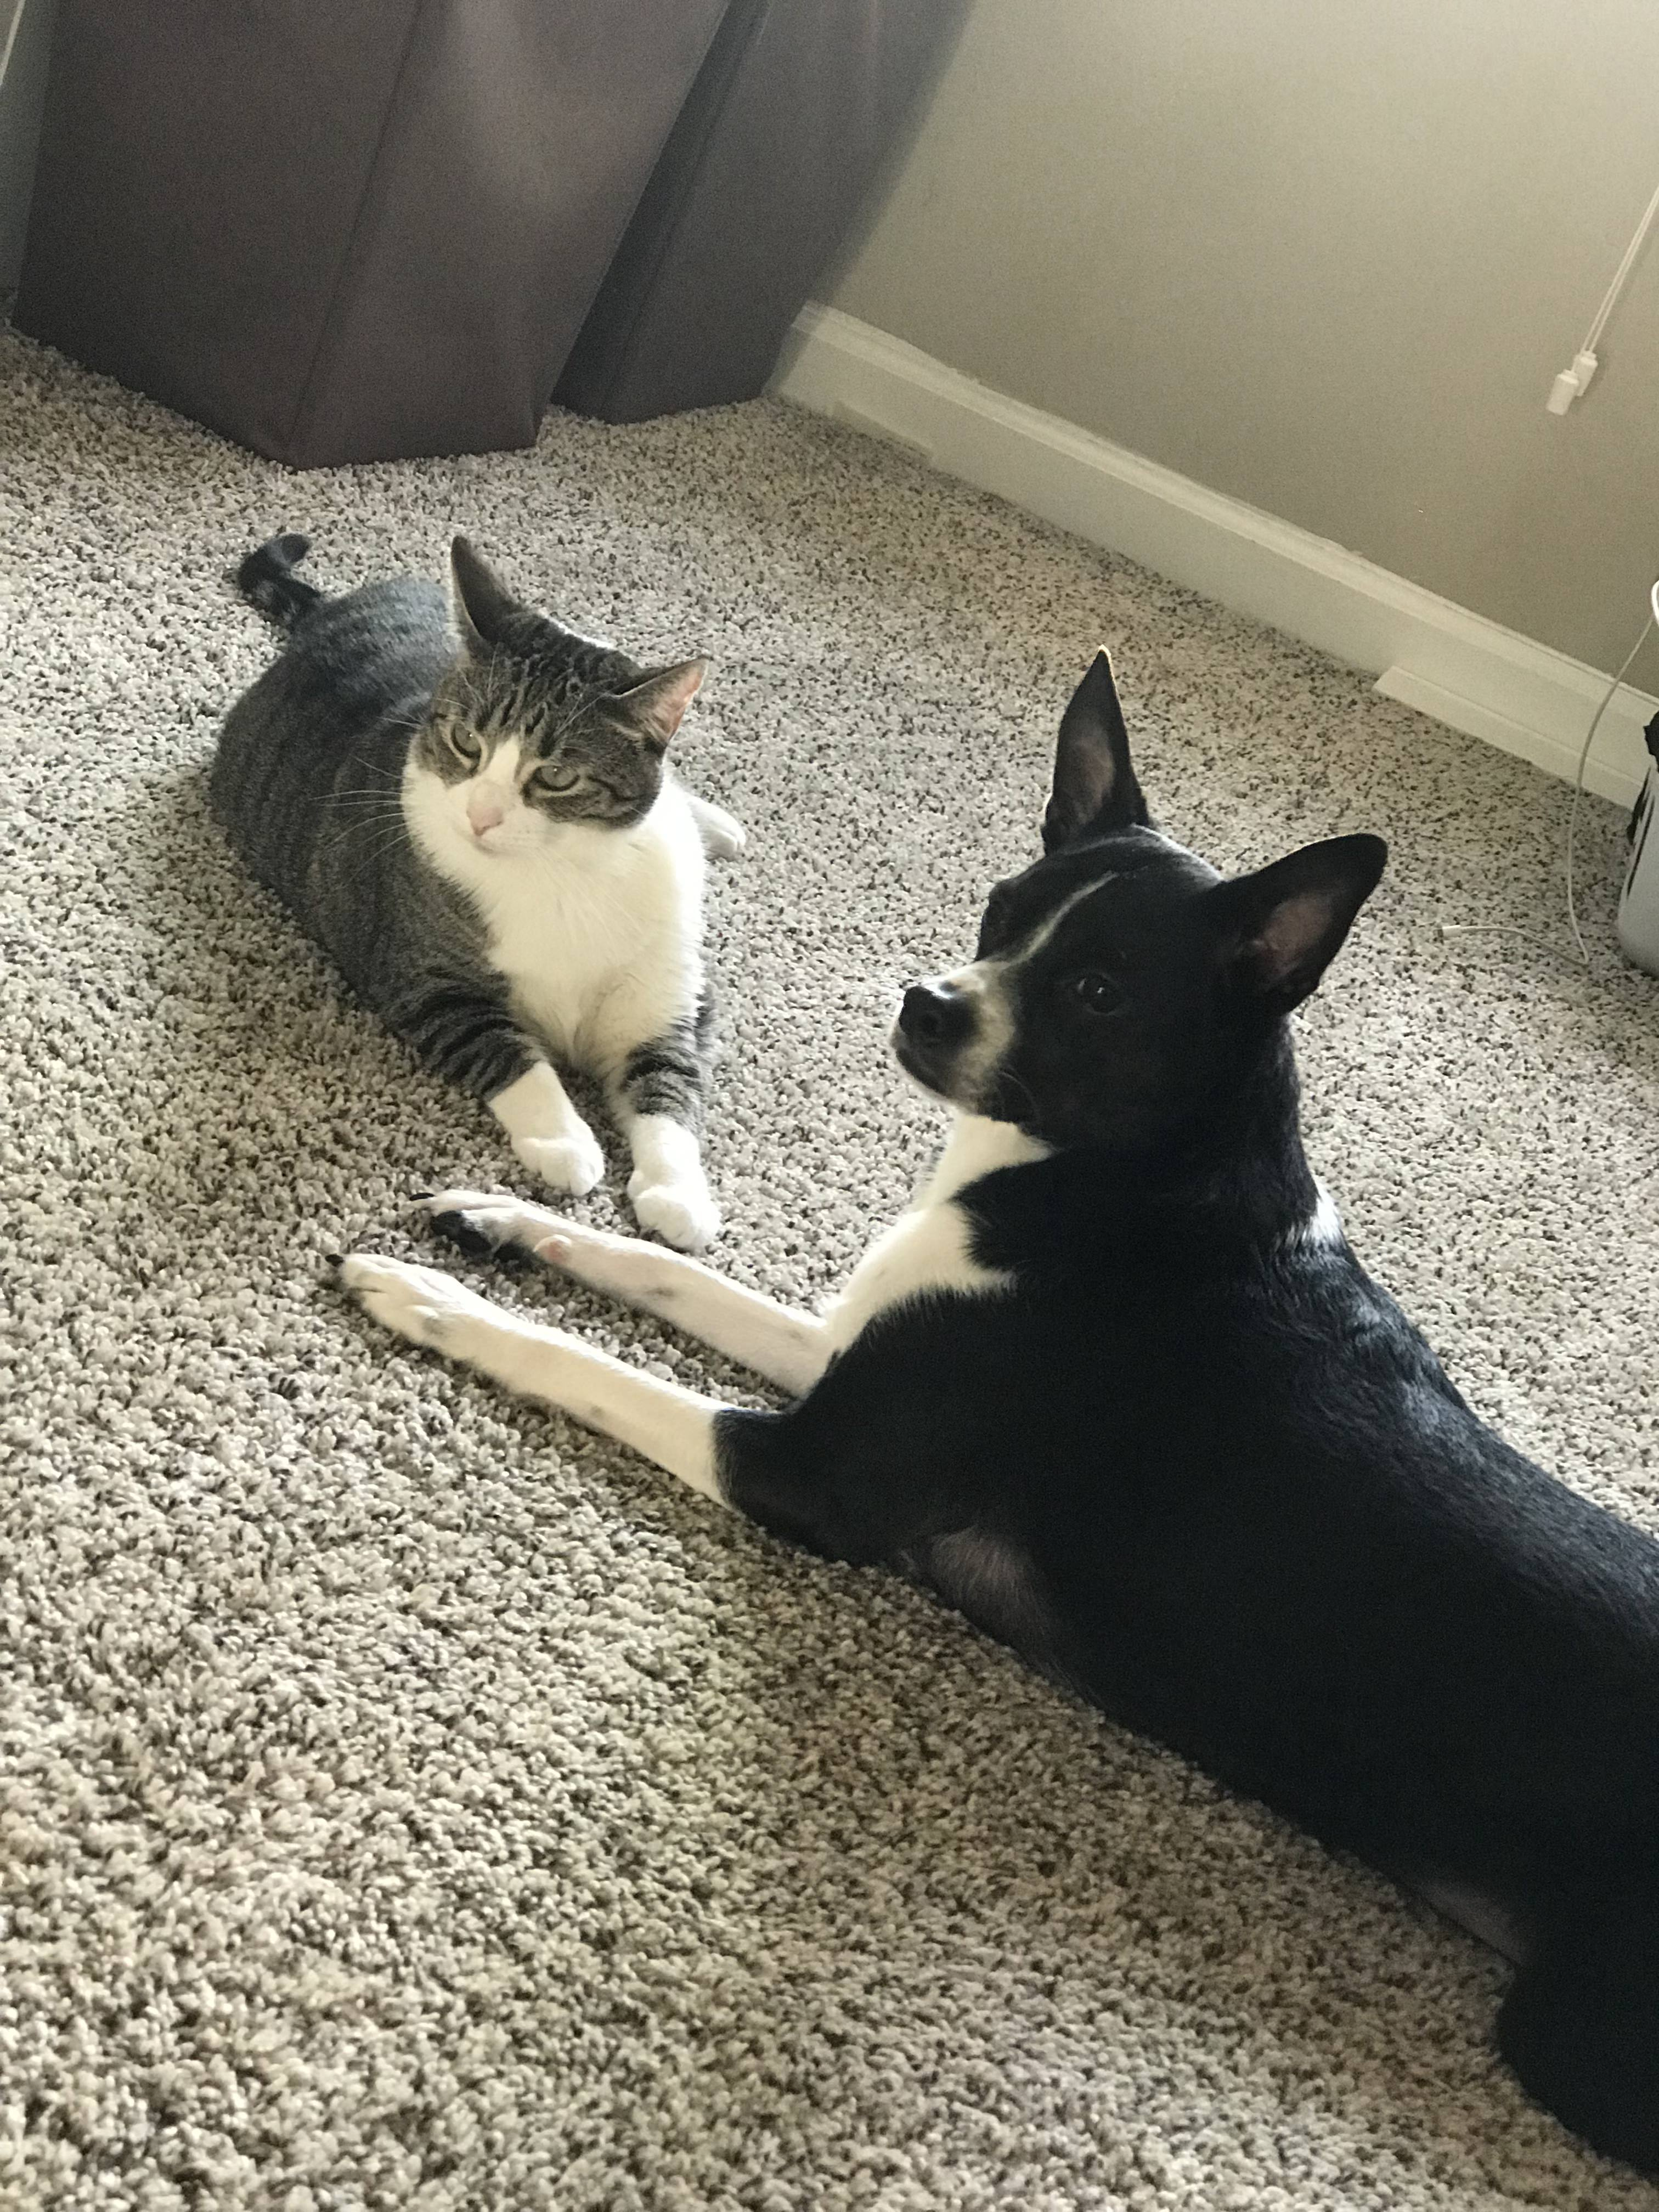Harley: (751, 592, 1659, 2144)
